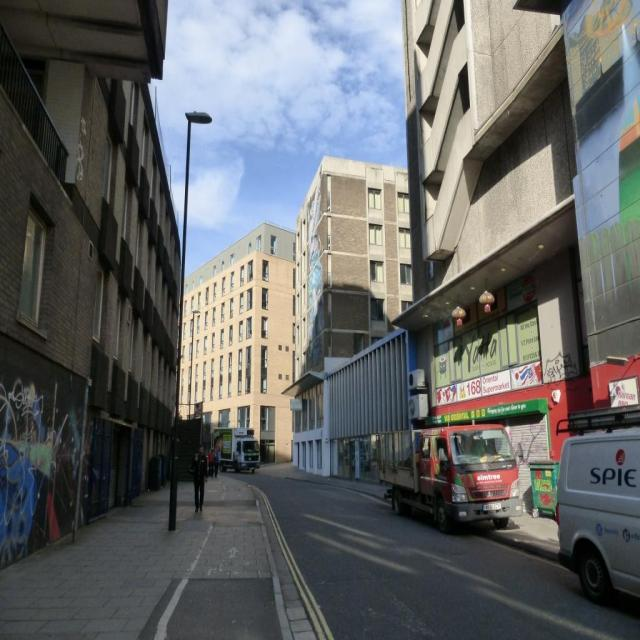Street Light: (168, 112, 213, 534)
